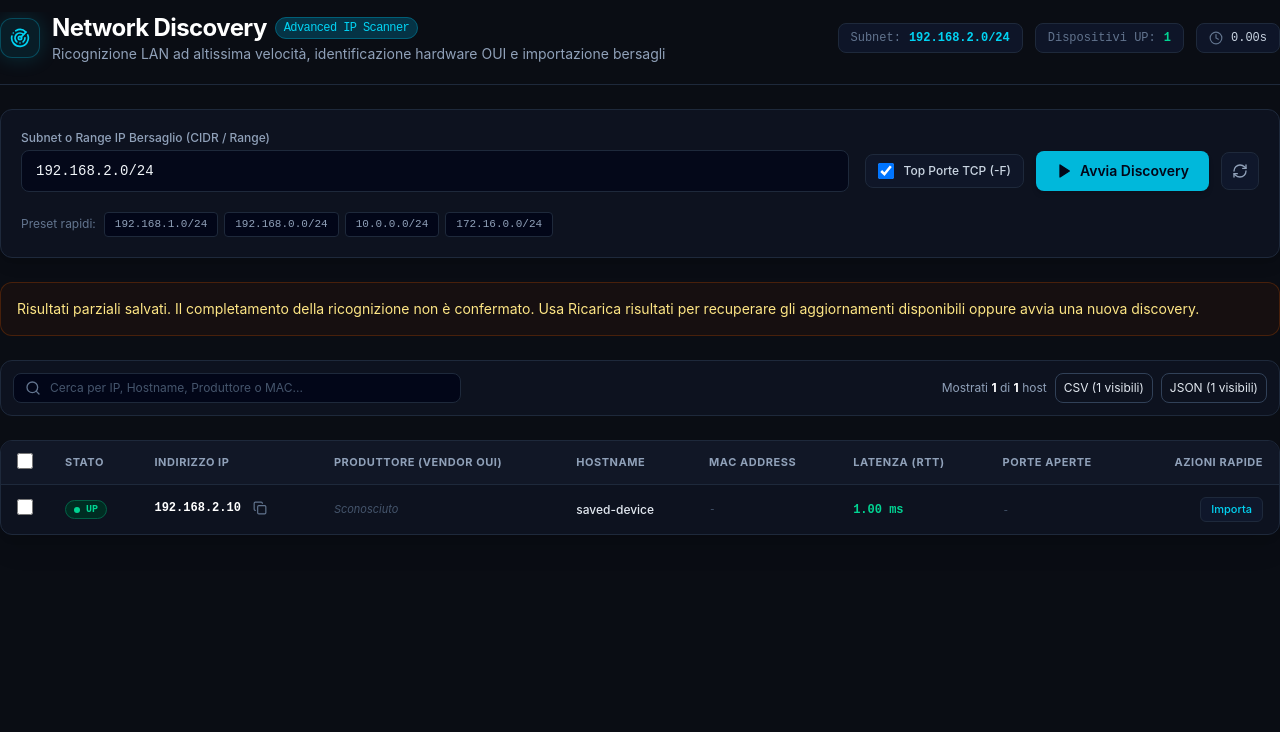
NetworkDiscovery Live Real-Time SSE Integration › restores a partial persisted snapshot and reloads its completed version
Expected: the text "saved-device" is shown, [576,502,654,517]
Expected: the message shows "Risultati parziali salvati", [17,300,534,317]
Click the button named "Ricarica risultati". click: (1240, 171)
box: [1221,152,1259,190]
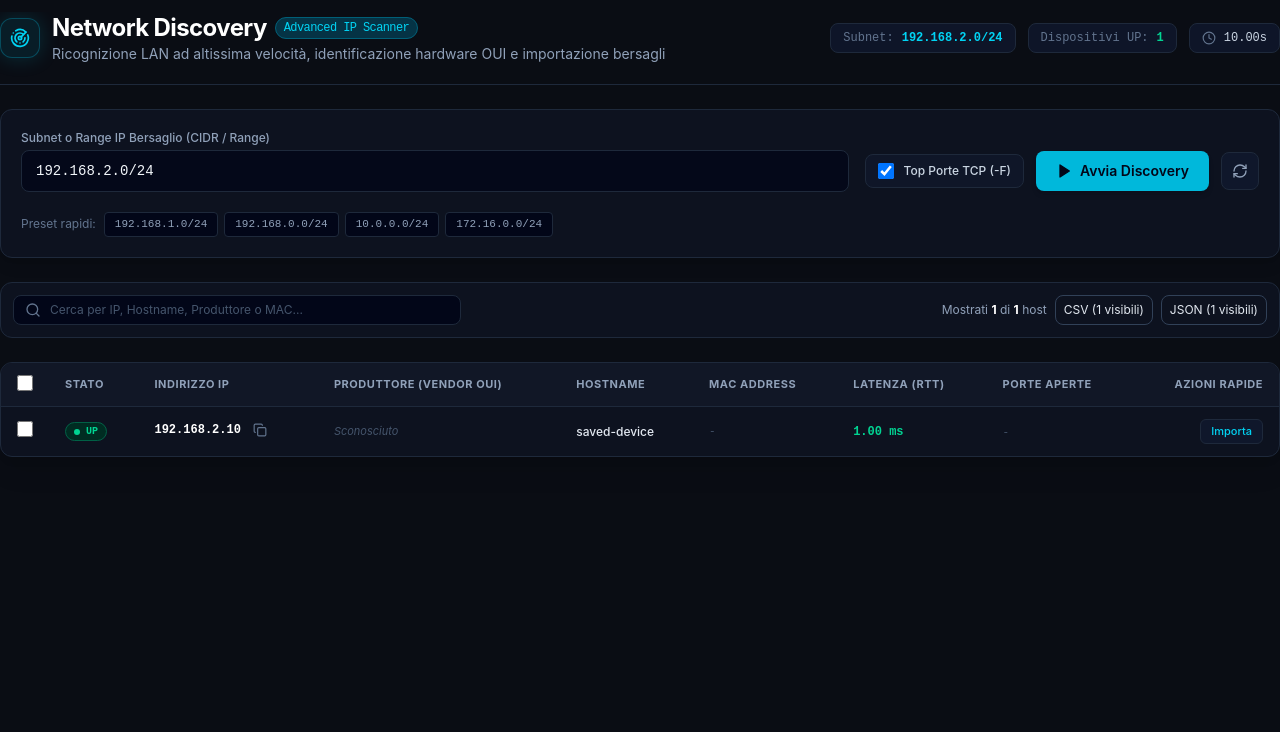
Expected: the text "saved-device" is shown, [576,424,654,439]
Expected: the message is gone
